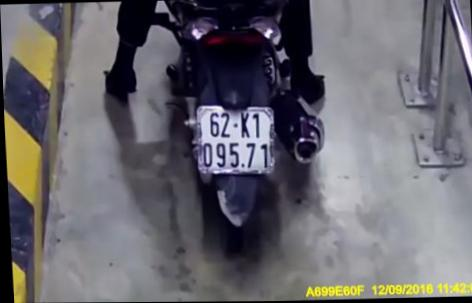LP: (183, 98, 279, 181)
